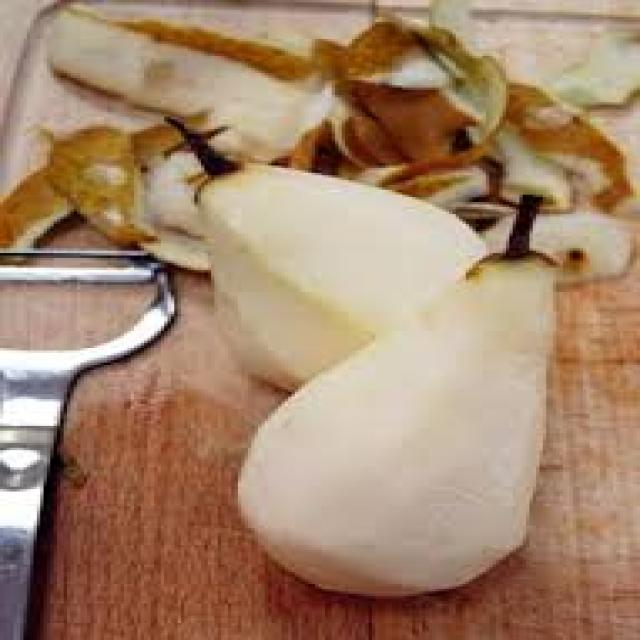Organik: (59, 8, 616, 268), (226, 255, 577, 594), (189, 153, 483, 368)
